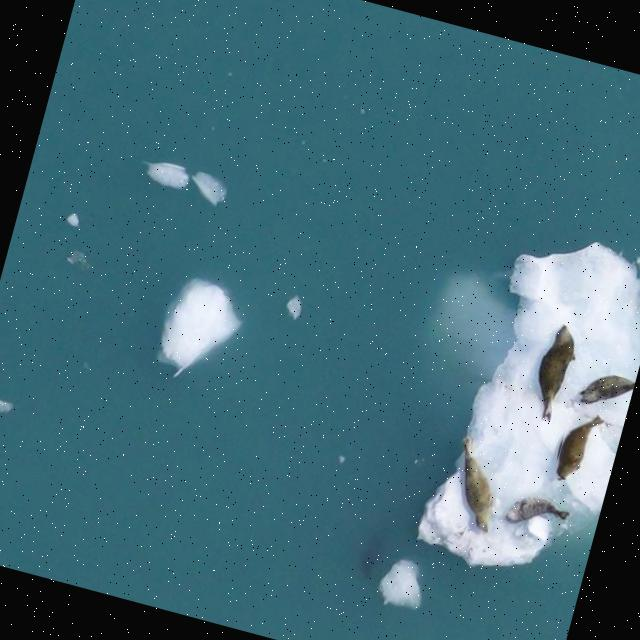seal: (519, 323, 587, 419), (447, 436, 503, 536), (546, 407, 604, 485), (503, 495, 569, 526), (577, 372, 636, 403)
